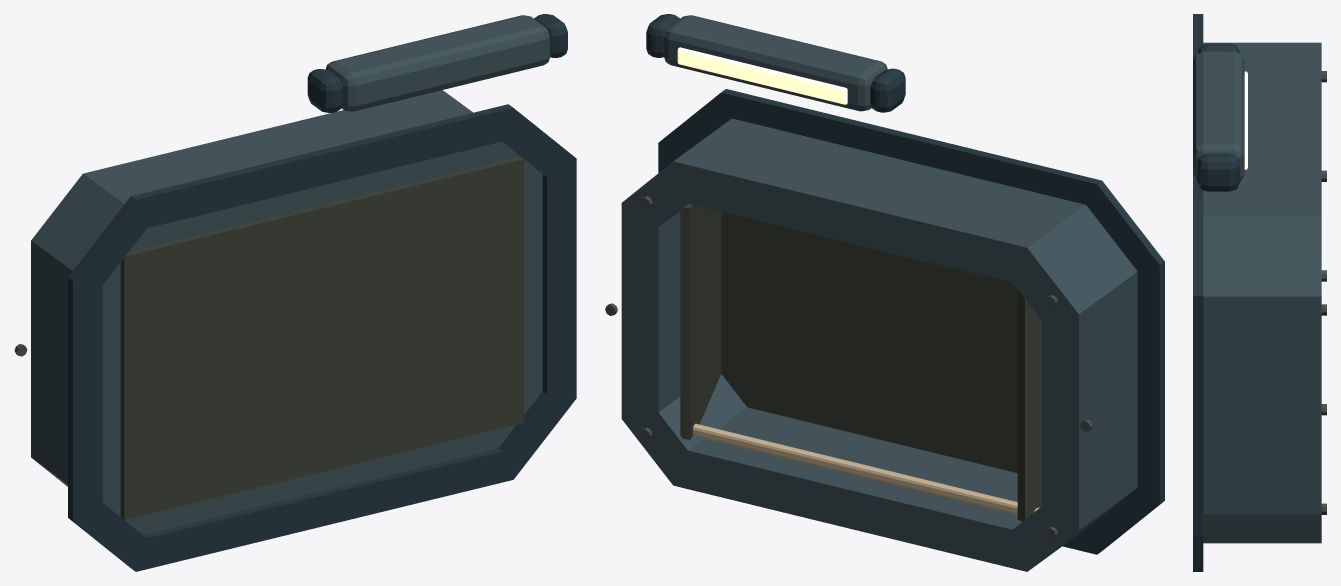
File: supply_water_niche.glb
The picture shows the model from 3 angles, left to right: view 1: azimuth 30°, elevation 25°; view 2: azimuth 150°, elevation 25°; view 3: azimuth 270°, elevation 25°; orthographic projection.
Visible parts, largest first — view 1: supply_water_niche; view 2: supply_water_niche; view 3: supply_water_niche.
Boxes of the visible parts, box(x1,y1,x2,y2) form: supply_water_niche: box(14, 14, 576, 571); supply_water_niche: box(605, 14, 1164, 571); supply_water_niche: box(1193, 14, 1326, 571).
Size of the model in its own units: 0.68 by 0.57 by 0.156.
